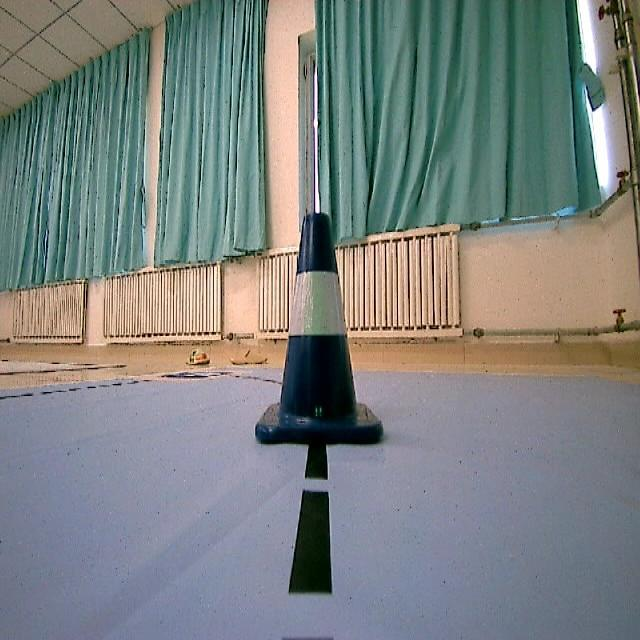obstacle: (247, 213, 396, 458)
